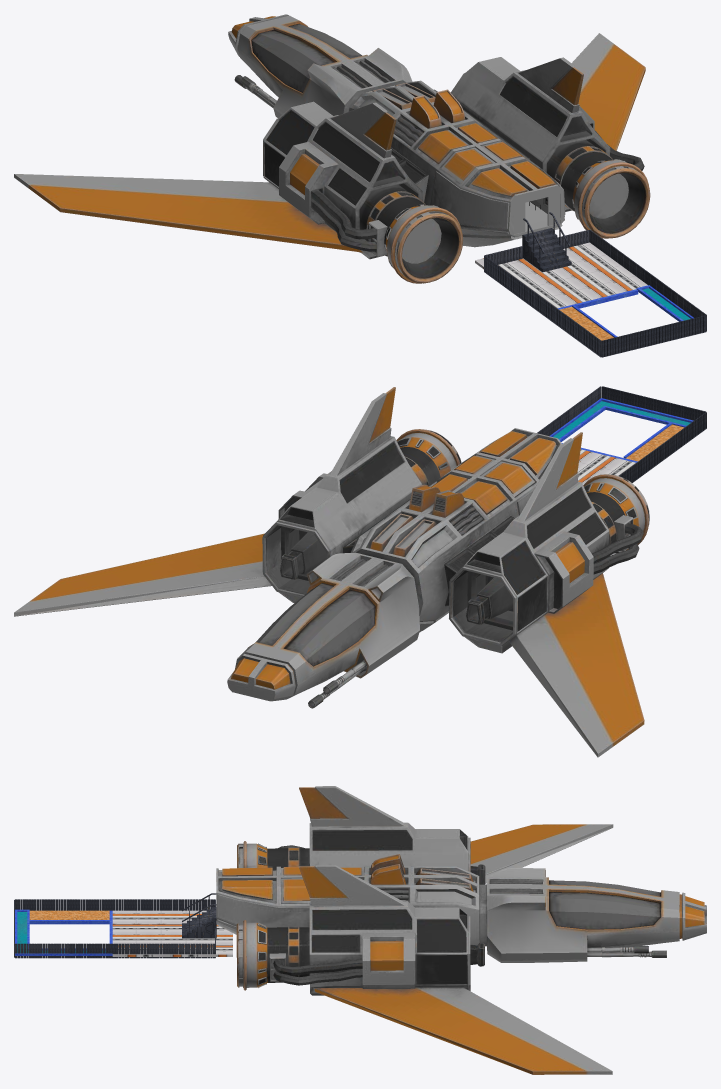
Rendered from changjing.fbx.
3 renders of one model, top to bottom at view 1: azimuth 30°, elevation 25°; view 2: azimuth 150°, elevation 25°; view 3: azimuth 270°, elevation 25°, orthographic. The views are drawn at different scales.
Parts seen in each view (by area): view 1: changjign; view 2: changjign; view 3: changjign.
Boxes of the visible parts, bbox=[...] form: changjign: bbox=[14, 14, 706, 357]; changjign: bbox=[14, 386, 706, 757]; changjign: bbox=[14, 786, 706, 1074].
Size of the model in its own units: 6276 by 1576 by 7484.
9 materials, 9 textured.
